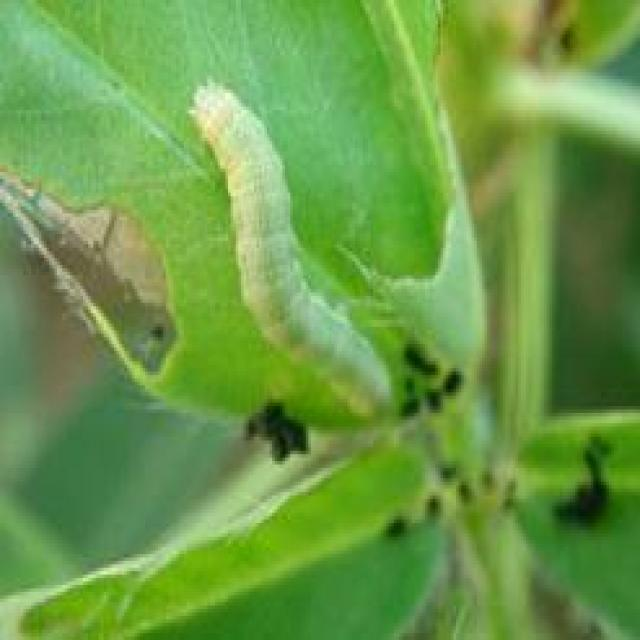BeetArmyWorm-Larva-: (179, 60, 395, 431)
